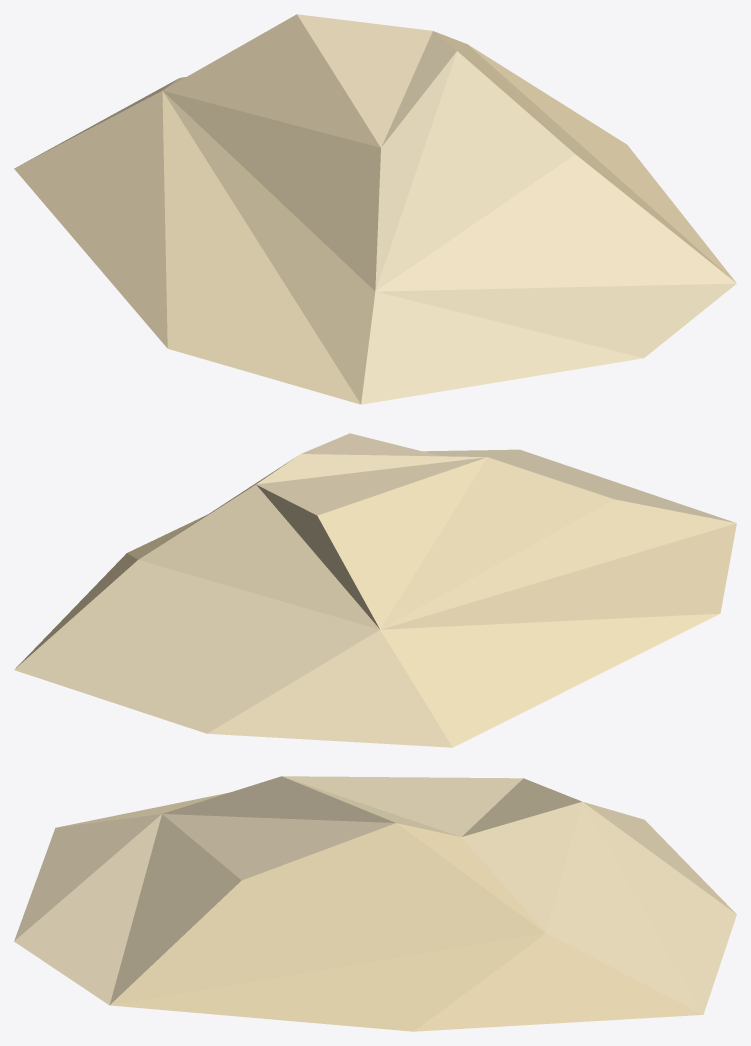
The model's file is pile2.glb.
3 views of the same model, one above another, from view 1: azimuth 30°, elevation 25°; view 2: azimuth 150°, elevation 25°; view 3: azimuth 270°, elevation 25° (orthographic). The views are drawn at different scales.
Parts seen in each view (by area): view 1: pile2; view 2: pile2; view 3: pile2.
Part boxes in pixels (x1,y1,x2,y2): pile2: [14, 14, 736, 404]; pile2: [14, 433, 736, 747]; pile2: [14, 776, 736, 1031].
Size of the model in its own units: 7.2 by 1.88 by 9.08.
